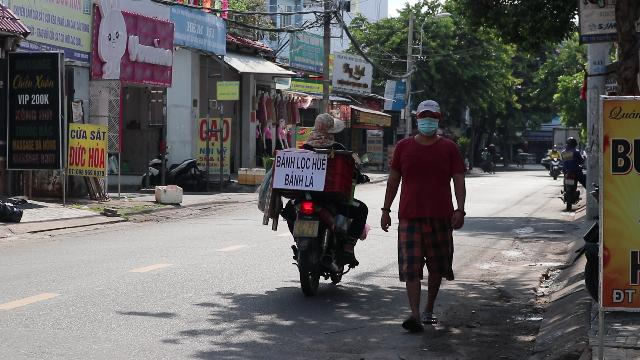licenseplate: (294, 220, 318, 236)
motorcyclist: (254, 112, 370, 298)
nohelmet: (308, 113, 344, 143)
